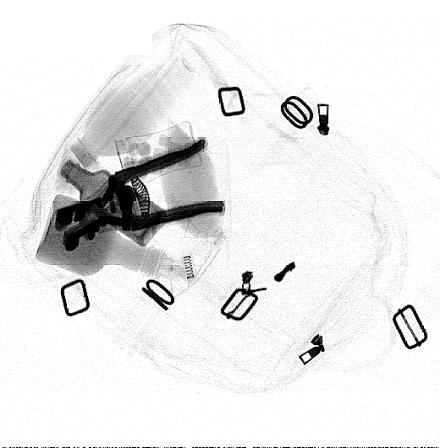Pliers: (56, 138, 224, 255)
